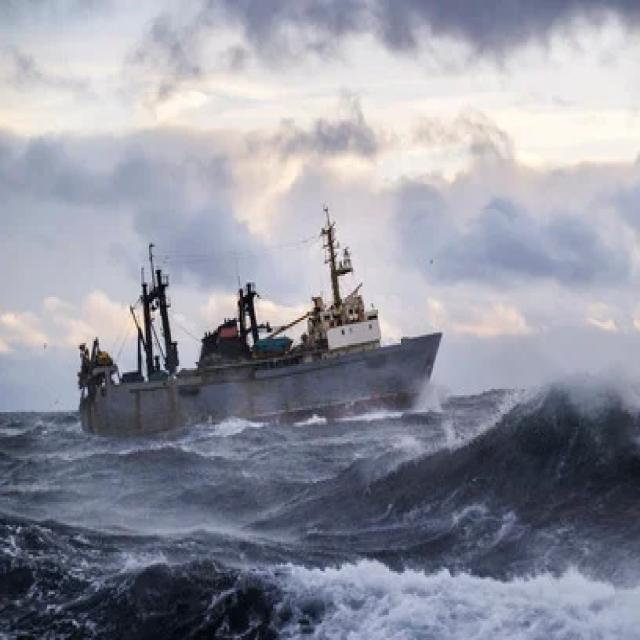fishing boat: (74, 224, 456, 434)
